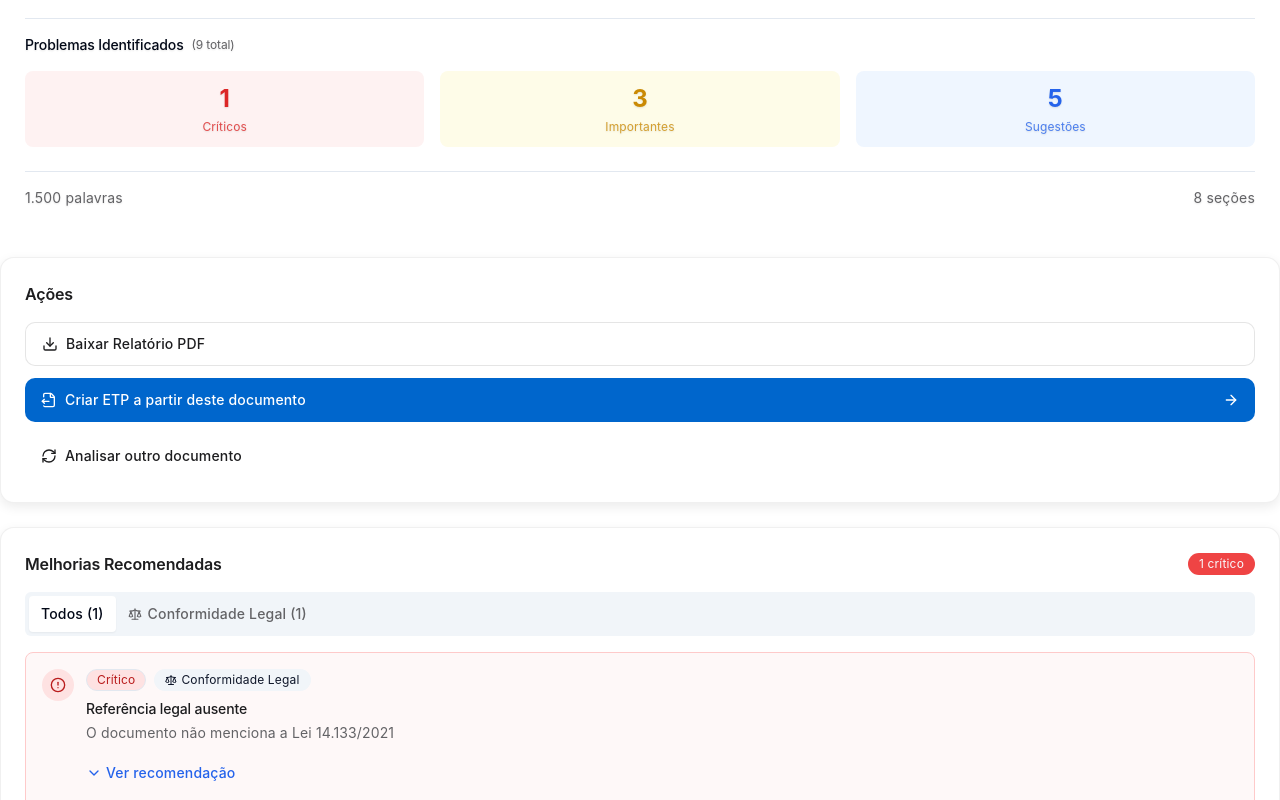
Test: AnalysisResults › Error Handling › displays error when convert fails
(page scrolled)
Click the button "Criar ETP a partir deste documento" at x=185, y=400, box [25,378,1255,422]
(page scrolled)
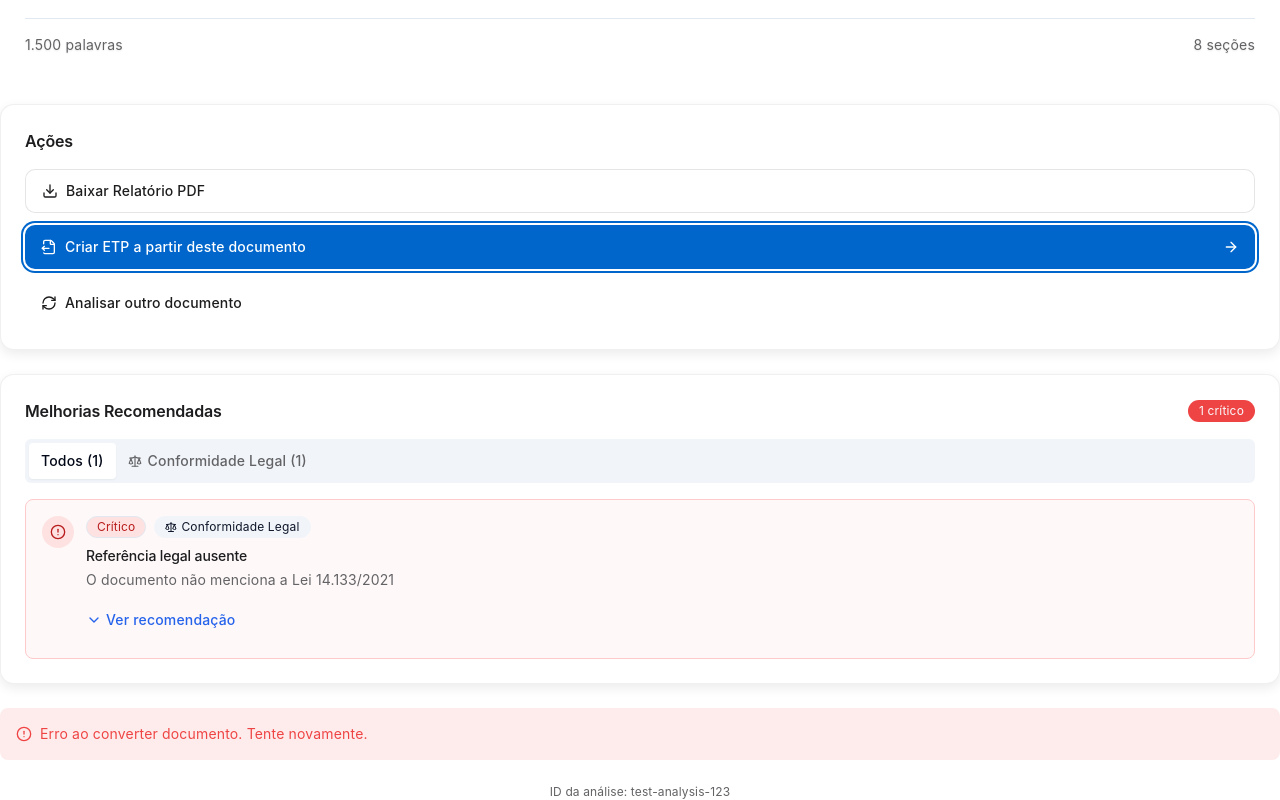
Now the text "Erro ao converter documento. Tente novamente." is shown, box [40,724,368,744]
